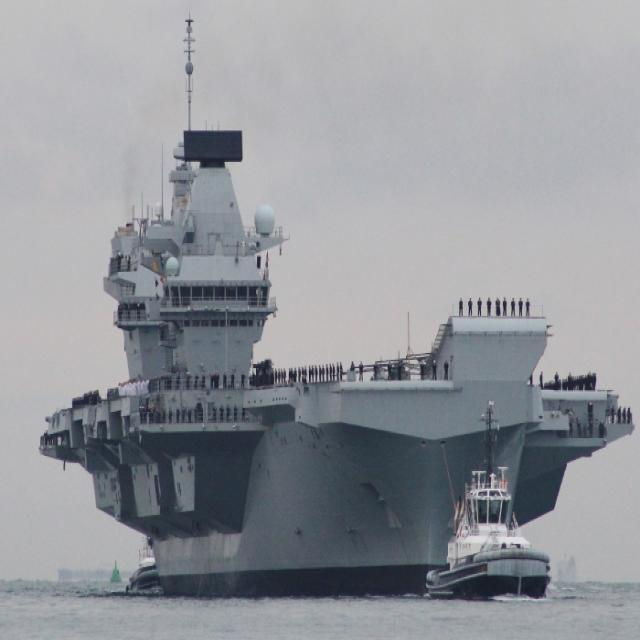Portanaves: (39, 11, 639, 607)
